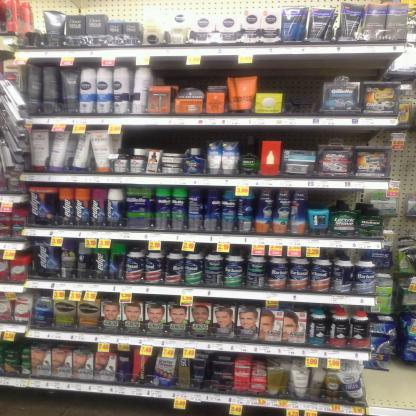Void: (281, 59, 318, 113), (317, 188, 375, 210), (390, 146, 416, 190), (134, 127, 185, 146)
